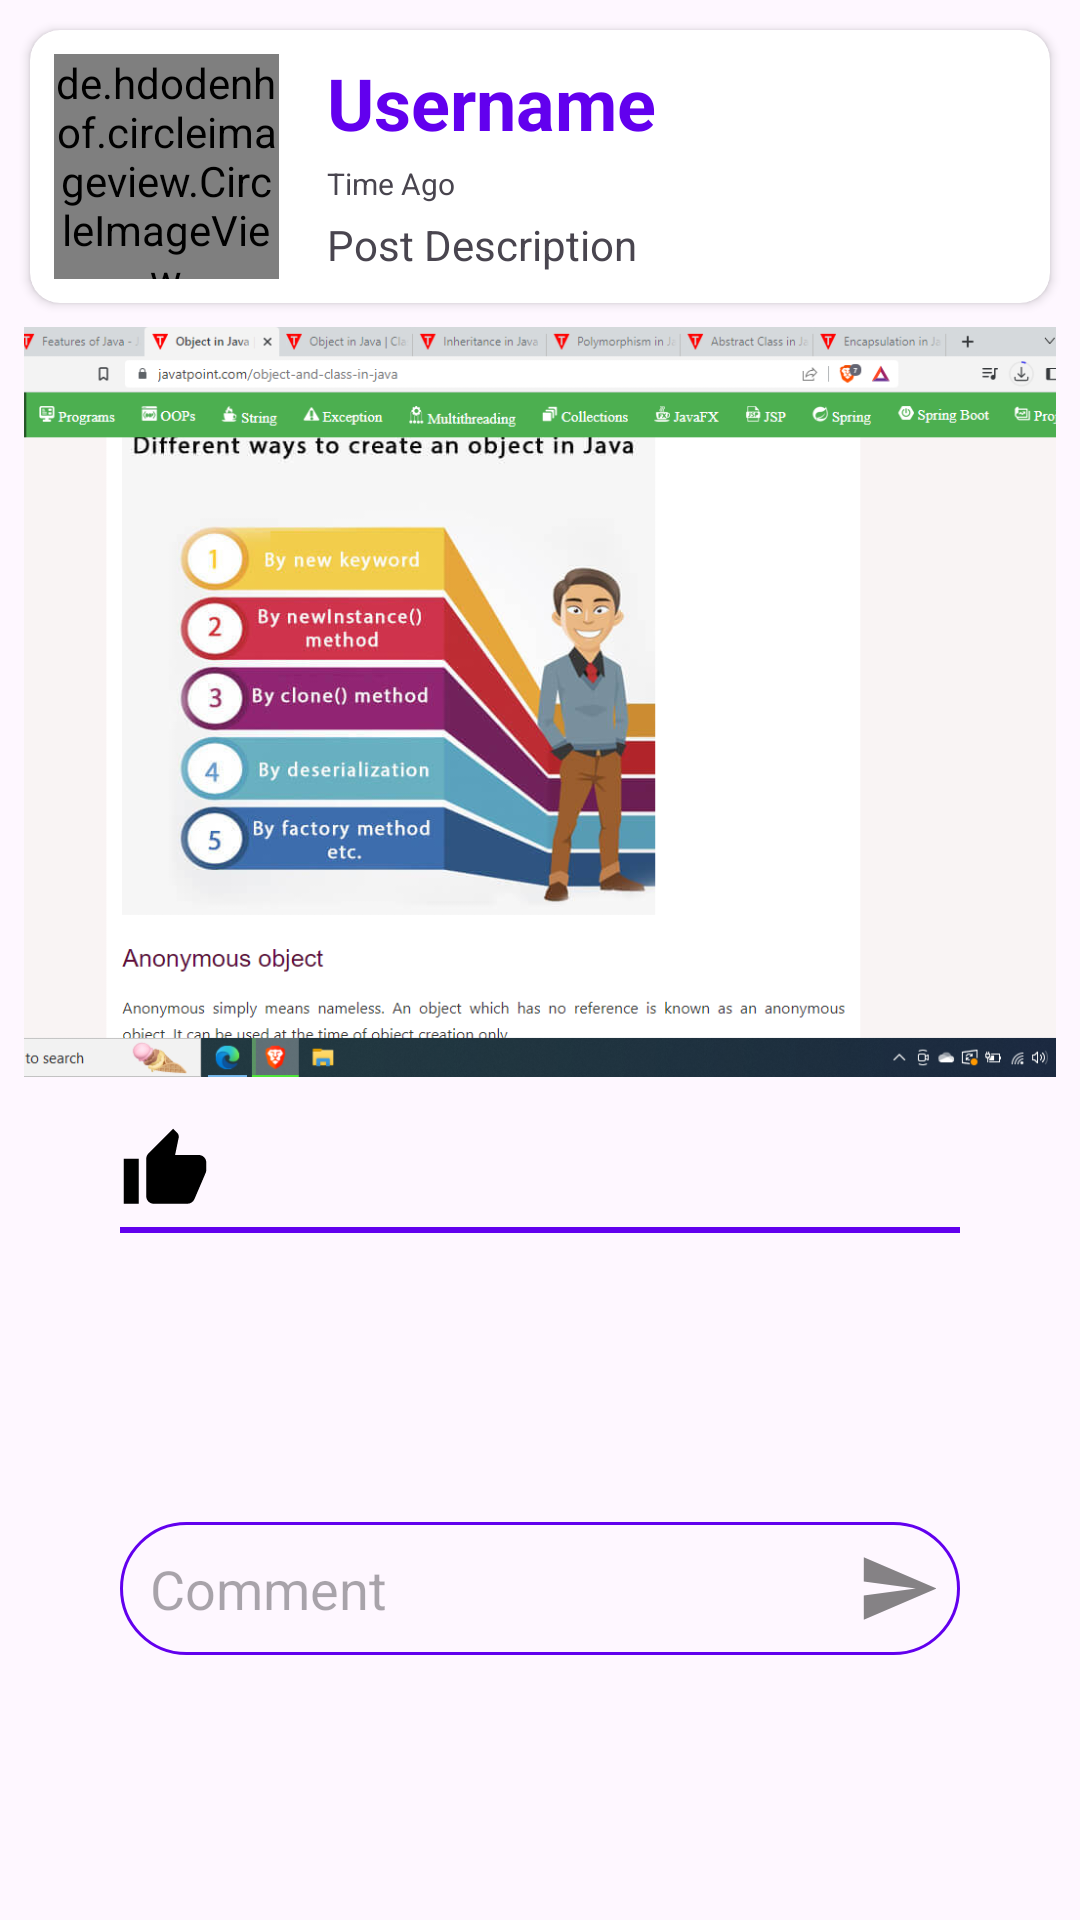

Where icons sit on this 1080×1920 app screen, as (x1, y1, x2, y2):
like: (123, 1129, 207, 1204)
send: (863, 1557, 936, 1620)
